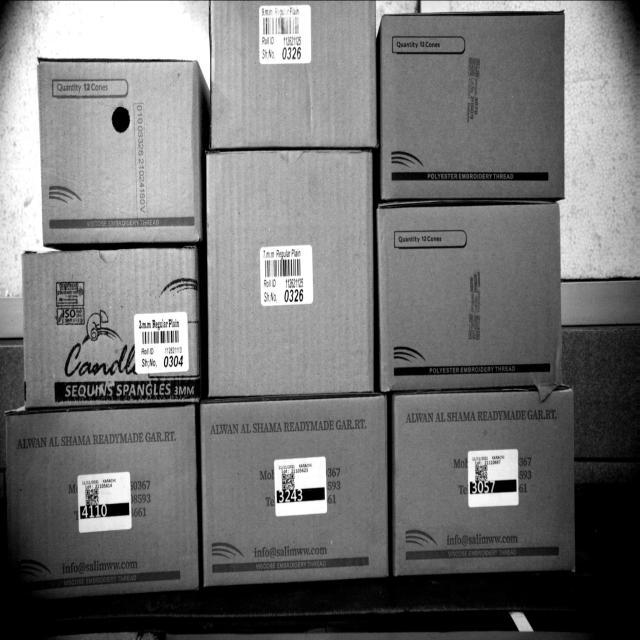box: (5, 407, 202, 612), (212, 155, 372, 394), (391, 382, 581, 578), (381, 14, 570, 201), (378, 204, 564, 386), (210, 396, 384, 582), (40, 54, 200, 243), (21, 244, 200, 408), (210, 1, 376, 150)
